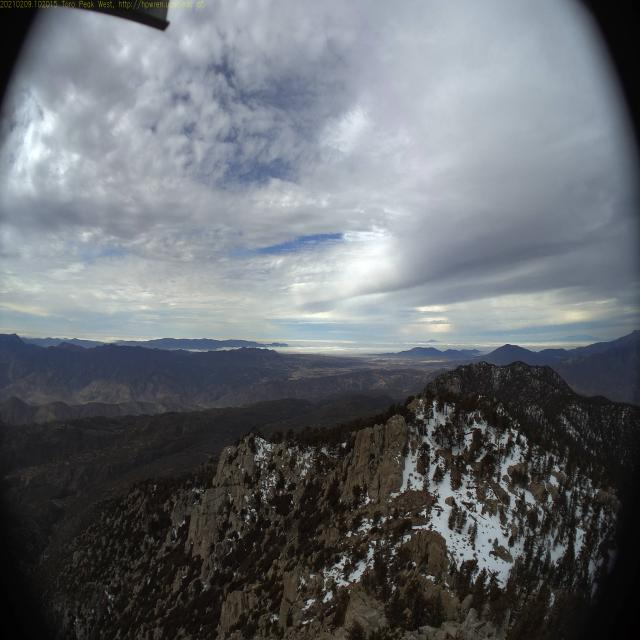smoke: (116, 338, 126, 348)
